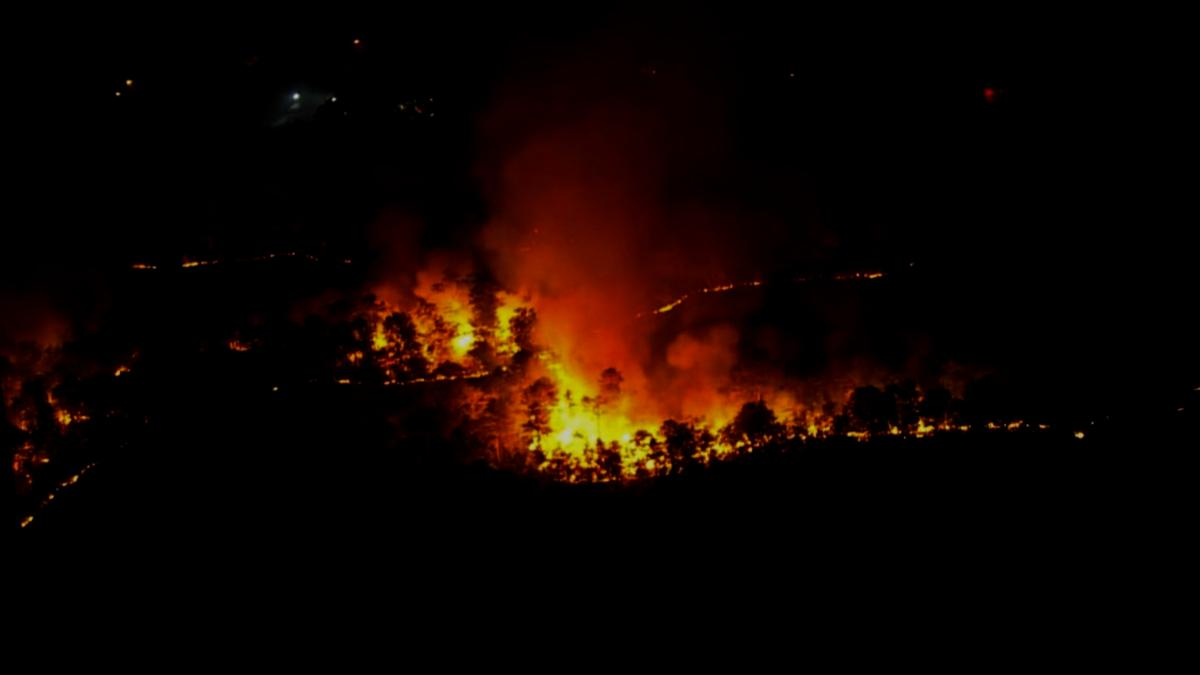fire: (536, 336, 918, 488), (368, 270, 548, 381)
